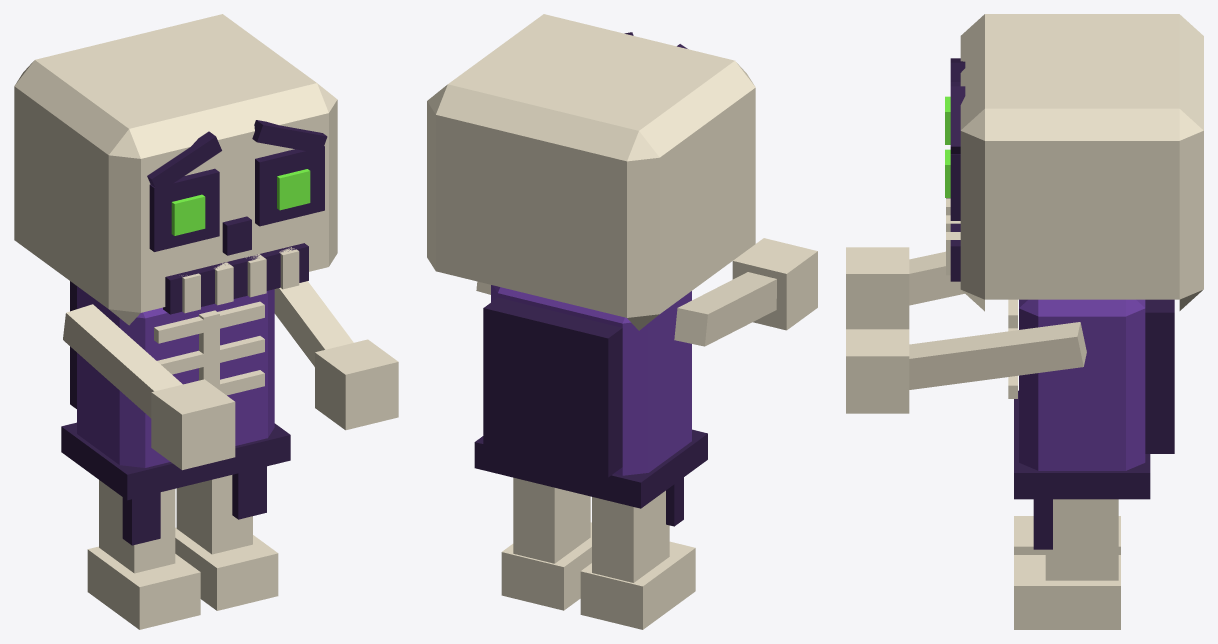
File: grunt_r4.glb
3 renders of one model, left to right at view 1: azimuth 30°, elevation 25°; view 2: azimuth 150°, elevation 25°; view 3: azimuth 270°, elevation 25°, orthographic. The views are drawn at different scales.
Parts seen in each view (by area): view 1: grunt_r4_mesh; view 2: grunt_r4_mesh; view 3: grunt_r4_mesh.
Boxes of the visible parts, x1=… form: grunt_r4_mesh: x1=14, y1=14, x2=398, y2=629; grunt_r4_mesh: x1=427, y1=14, x2=817, y2=629; grunt_r4_mesh: x1=846, y1=14, x2=1203, y2=629.
Size of the model in its own units: 0.6942 by 1.5 by 0.9112.
Materials: 1 (1 with a texture image).
